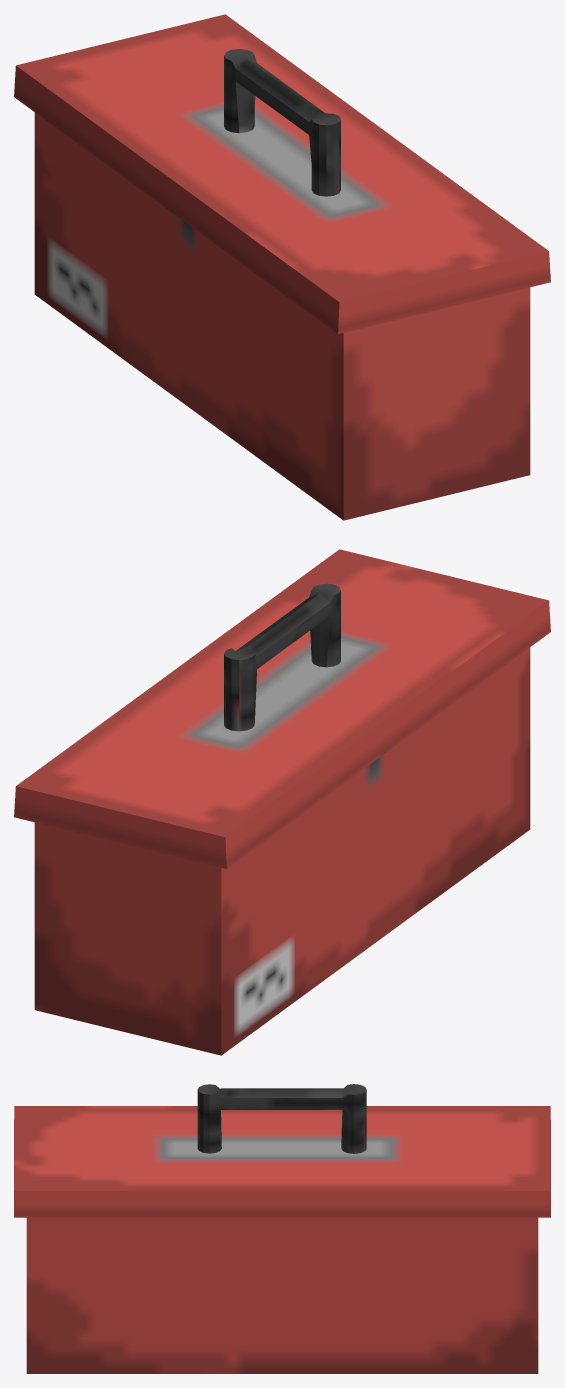
Rendered from Toolbox.obj.
3 views of the same model, one above another, from view 1: azimuth 30°, elevation 25°; view 2: azimuth 150°, elevation 25°; view 3: azimuth 270°, elevation 25° (orthographic). The views are drawn at different scales.
Parts seen in each view (by area): view 1: Toolbox; view 2: Toolbox; view 3: Toolbox.
Part boxes in pixels (x1,y1,x2,y2): Toolbox: (14,14,550,520); Toolbox: (14,549,550,1055); Toolbox: (14,1084,550,1373).
Bounding box in the file's own units: 2.38 × 3.2 × 6.28.
